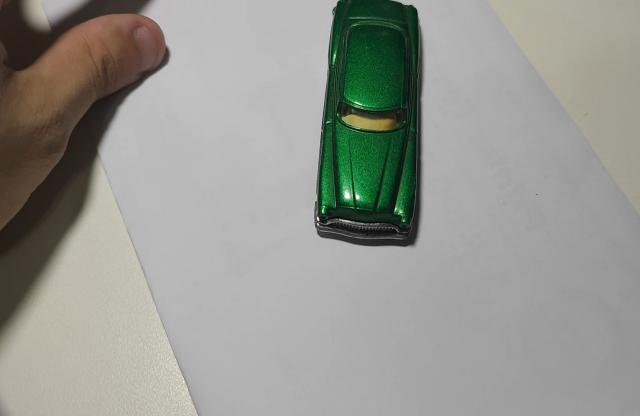06_MASERATI: (313, 0, 423, 249)
